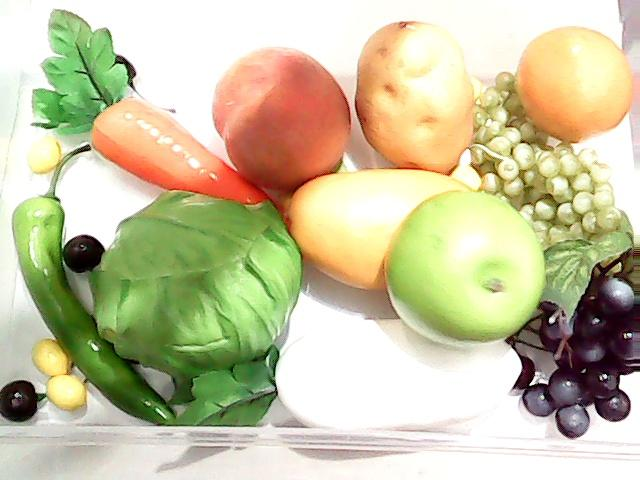apple: (383, 190, 545, 354)
cabbage: (94, 184, 302, 380)
carrot: (30, 4, 292, 242)
grape: (462, 67, 640, 271), (522, 241, 640, 439)
lemon: (512, 20, 640, 134)
mango: (289, 168, 469, 292)
peach: (212, 44, 352, 196)
pepper: (8, 172, 188, 422)
potato: (356, 20, 476, 176)
radish: (174, 315, 524, 459)
